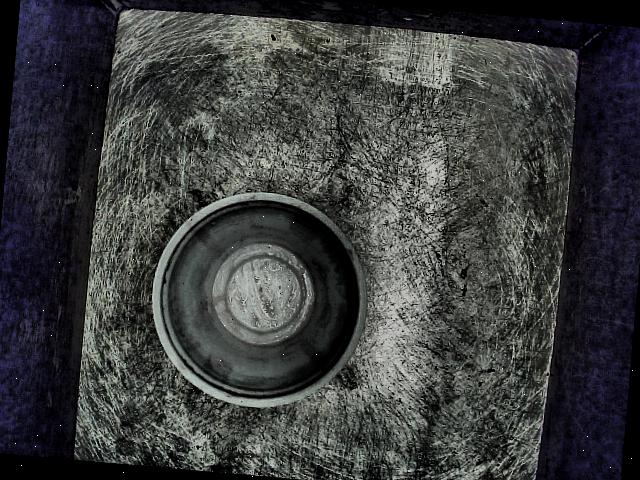Plastic: (128, 166, 385, 438)
